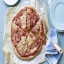pizza: (10, 7, 46, 58)
